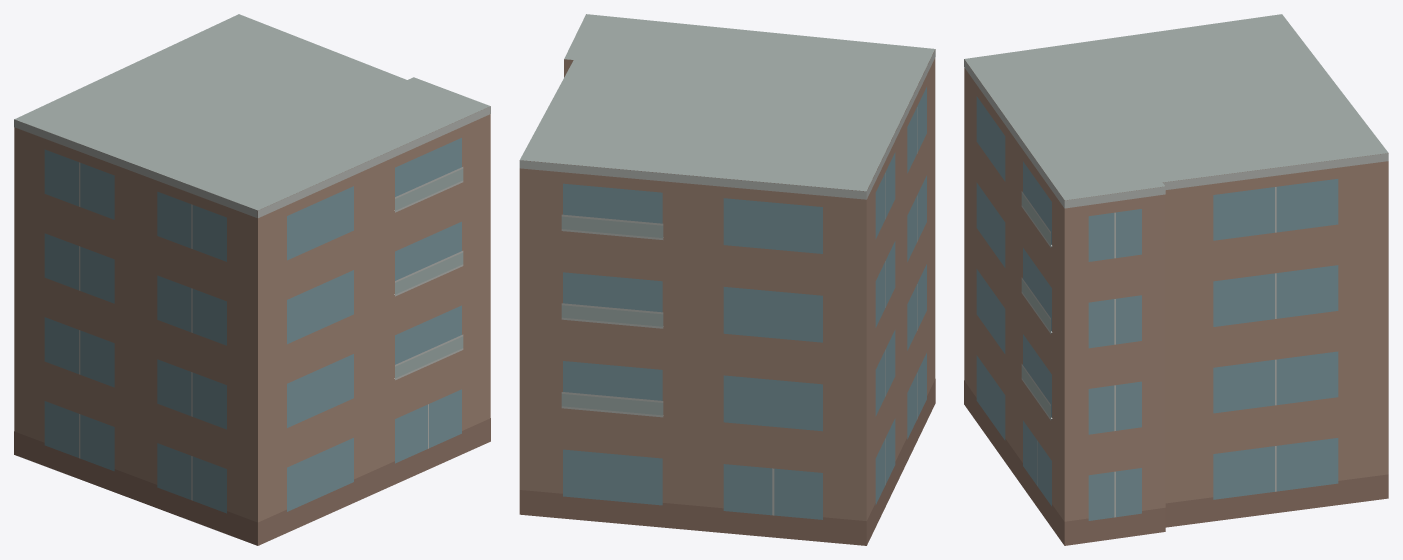
The model's file is survey-upis-32561034.glb.
3 renders of one model, left to right at view 1: azimuth 30°, elevation 25°; view 2: azimuth 150°, elevation 25°; view 3: azimuth 270°, elevation 25°, orthographic. The views are drawn at different scales.
Parts seen in each view (by area): view 1: survey-upis-32561034.tmp; view 2: survey-upis-32561034.tmp; view 3: survey-upis-32561034.tmp.
Boxes of the visible parts, left/top/right/bottom form: survey-upis-32561034.tmp: left=14, top=14, right=490, bottom=545; survey-upis-32561034.tmp: left=519, top=14, right=935, bottom=545; survey-upis-32561034.tmp: left=964, top=14, right=1388, bottom=545.
Size of the model in its own units: 12.05 by 10.4 by 11.59.
